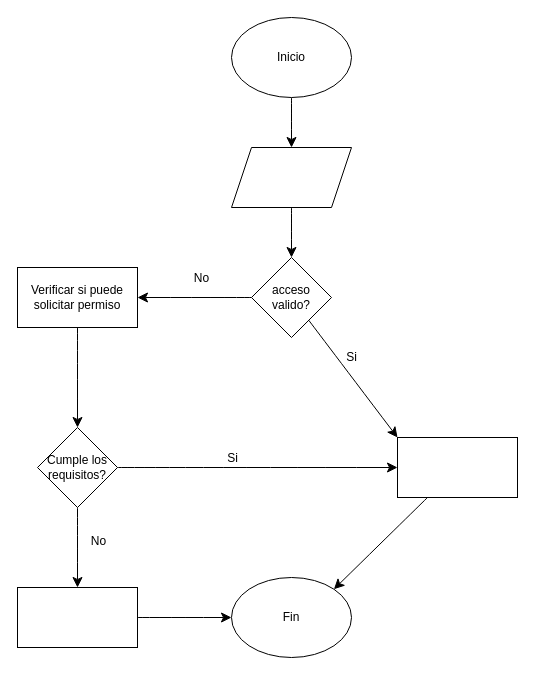
Some shapes in this 535 by 675 pixel diagram are drawn without their labels. Each missing label, with the box of its shape:
Acceso denegado: (16, 586, 138, 648)
Acceso permitido: (396, 436, 518, 498)
Usuario: (230, 146, 352, 208)
